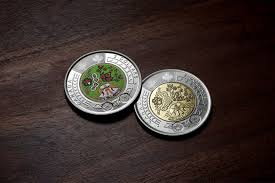coin: (134, 69, 210, 135), (64, 50, 140, 114)
